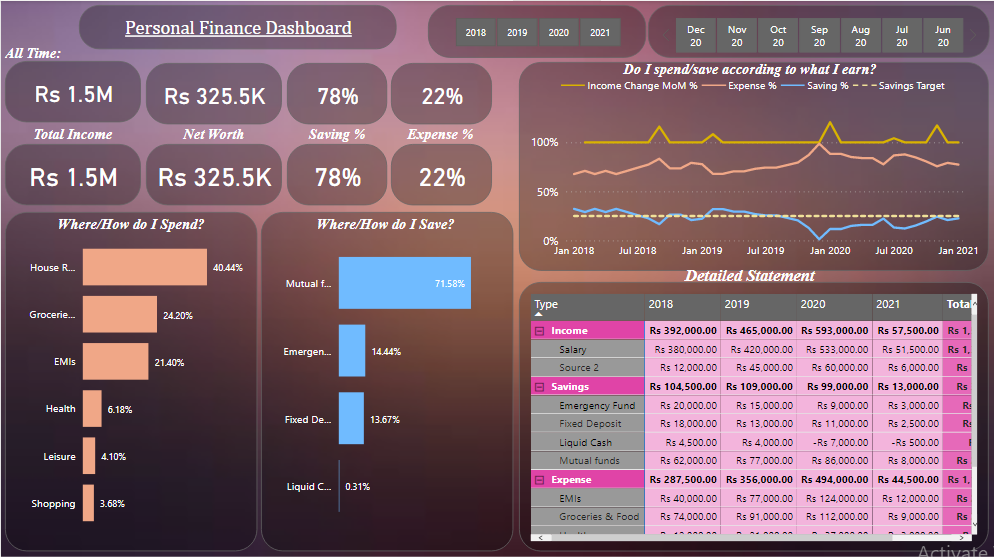

Layout of this report page (visuals, bound fields, positions):
{"tool":"powerbi","page":{"name":"Page 1","canvas":[1280,720],"ordinal":0},"visuals":[{"type":"textbox","box":[219.3,155.6,110.3,35.4],"z":0},{"type":"textbox","box":[29.7,155.6,125.9,35.4],"z":1000},{"type":"textbox","box":[370.6,155.6,124.5,35.4],"z":2000},{"type":"textbox","box":[509.2,155.6,114.6,35.4],"z":3000},{"type":"slicer","fields":{"Values":["FinData.Year"]},"box":[550.3,5.7,281.5,67.9],"z":4000},{"type":"slicer","fields":{"Values":["FinData.Date"]},"box":[833.5,5.7,439.9,67.9],"z":5000},{"type":"textbox","box":[100.4,5.7,408.8,56.6],"z":6000},{"type":"card","fields":{"Values":["Key Measures.Total Income"]},"box":[5.7,183.9,175.4,79.2],"z":7000},{"type":"textbox","box":[0,50.9,155.6,42.4],"z":8000},{"type":"card","fields":{"Values":["Key Measures.Total Saving"]},"box":[186.7,183.9,175.4,79.2],"z":9000},{"type":"card","fields":{"Values":["Key Measures.Expense %"]},"box":[367.8,183.9,128.7,79.2],"z":10000},{"type":"card","fields":{"Values":["Key Measures.Saving %"]},"box":[502.2,183.9,130.1,79.2],"z":11000},{"type":"card","fields":{"Values":["Key Measures.Total Income"]},"box":[5.7,77.8,175.4,79.2],"z":12000},{"type":"card","fields":{"Values":["Key Measures.Total Saving"]},"box":[186.7,79.2,175.4,79.2],"z":13000},{"type":"card","fields":{"Values":["Key Measures.Expense %"]},"box":[367.8,79.2,128.7,79.2],"z":14000},{"type":"card","fields":{"Values":["Key Measures.Saving %"]},"box":[502.2,79.2,130.1,79.2],"z":15000},{"type":"clusteredBarChart","fields":{"Category":["FinData.Component"],"Y":["Key Measures.Total Expense"]},"box":[5.7,271.6,325.3,437.1],"z":16000},{"type":"clusteredBarChart","fields":{"Category":["FinData.Component"],"Y":["Key Measures.Total Saving"]},"box":[335.2,271.6,325.3,437.1],"z":17000},{"type":"textbox","box":[59.4,271.6,216.4,35.4],"z":18000},{"type":"textbox","box":[386.2,271.6,217.8,35.4],"z":19000},{"type":"lineChart","fields":{"Category":["FinData.Date"],"Y":["Key Measures.Income Change MoM %","Key Measures.Expense %","Key Measures.Saving %","Key Measures.Savings Target"]},"box":[666.7,78.2,605.4,268.8],"z":20000},{"type":"pivotTable","fields":{"Values":["Key Measures.Values"],"Columns":["FinData.Year","FinData.Date"],"Rows":["Table.Type","FinData.Component"]},"box":[666.7,362.6,605.4,346.6],"z":21000},{"type":"textbox","box":[792.1,72.1,345.1,35.4],"z":22000},{"type":"textbox","box":[845.9,336.7,236.2,35.4],"z":23000}]}

Visuals, with their boxes on the page's 1280x720 design canvas (x1, y1, x2, y2). These are canvas units, not pixel positions in the 994x557 screenshot, which may show the page scaled, cropped or inside an application window:
textbox: 219:156:330:191
textbox: 30:156:156:191
textbox: 371:156:495:191
textbox: 509:156:624:191
slicer - FinData.Year: 550:6:832:74
slicer - FinData.Date: 834:6:1273:74
textbox: 100:6:509:62
card - Key Measures.Total Income: 6:184:181:263
textbox: 0:51:156:93
card - Key Measures.Total Saving: 187:184:362:263
card - Key Measures.Expense %: 368:184:496:263
card - Key Measures.Saving %: 502:184:632:263
card - Key Measures.Total Income: 6:78:181:157
card - Key Measures.Total Saving: 187:79:362:158
card - Key Measures.Expense %: 368:79:496:158
card - Key Measures.Saving %: 502:79:632:158
clusteredBarChart - FinData.Component x Key Measures.Total Expense: 6:272:331:709
clusteredBarChart - FinData.Component x Key Measures.Total Saving: 335:272:660:709
textbox: 59:272:276:307
textbox: 386:272:604:307
lineChart - FinData.Date x Key Measures.Income Change MoM %: 667:78:1272:347
pivotTable - Key Measures.Values x FinData.Year: 667:363:1272:709
textbox: 792:72:1137:108
textbox: 846:337:1082:372
